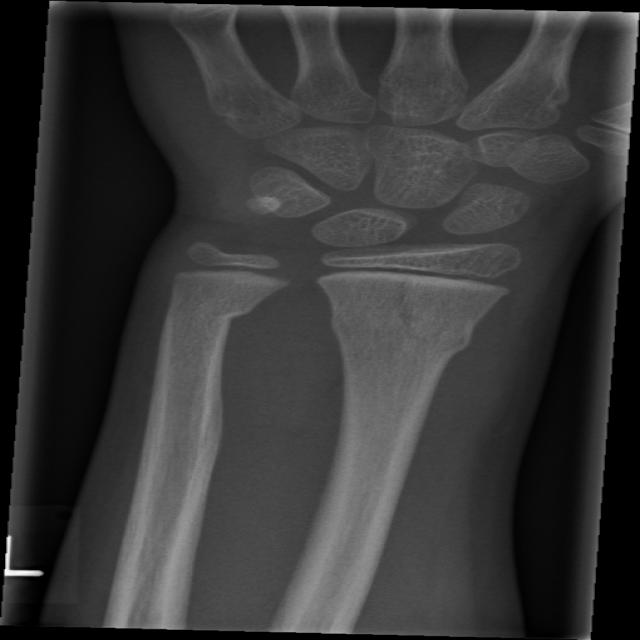radius fracture: (307, 290, 498, 443)
ulna fracture: (145, 265, 300, 457)
